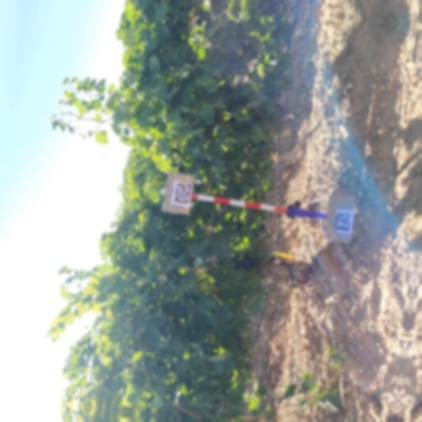QR: (174, 182, 192, 204), (335, 210, 352, 232)
